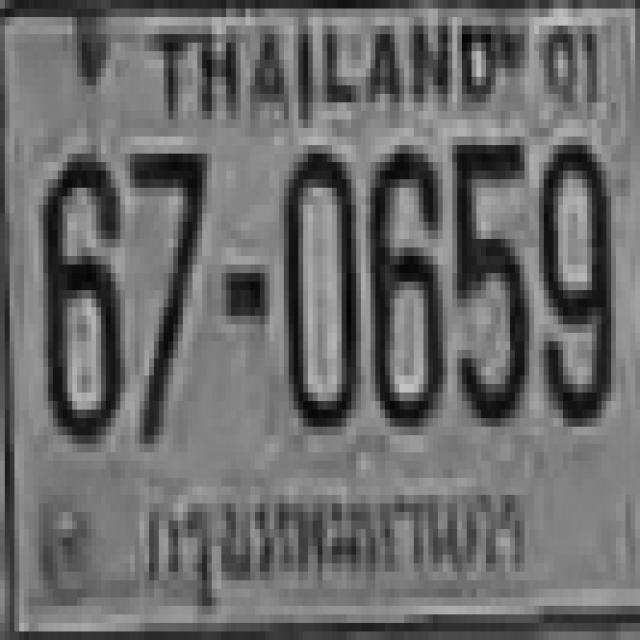0: (279, 145, 356, 427)
5: (448, 137, 524, 418)
6: (39, 145, 120, 435), (366, 137, 438, 418)
7: (125, 145, 202, 435)
9: (534, 137, 611, 418)
Bangkok: (131, 464, 535, 594)
